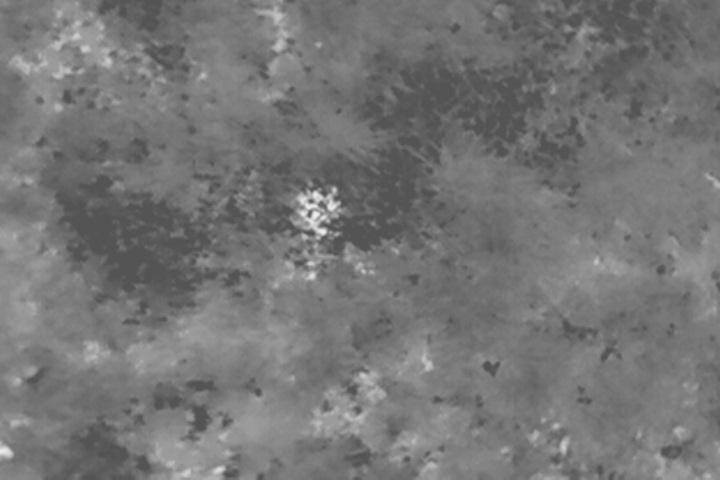landmine: (293, 180, 349, 260)
